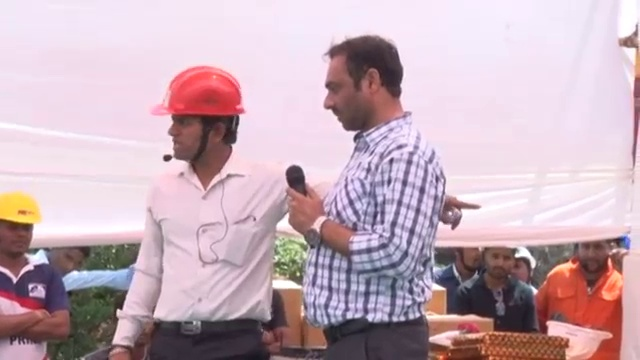helmet: (151, 63, 248, 120), (544, 319, 613, 359), (0, 195, 43, 224)
helmet_off: (321, 34, 409, 137), (481, 241, 522, 287), (47, 247, 90, 283), (576, 237, 614, 275), (455, 241, 484, 273)
helmet_on: (151, 66, 248, 179), (0, 200, 43, 262)
person: (287, 35, 468, 359), (112, 69, 294, 360), (0, 201, 72, 359), (535, 238, 627, 360), (456, 244, 544, 330), (430, 239, 486, 311)
